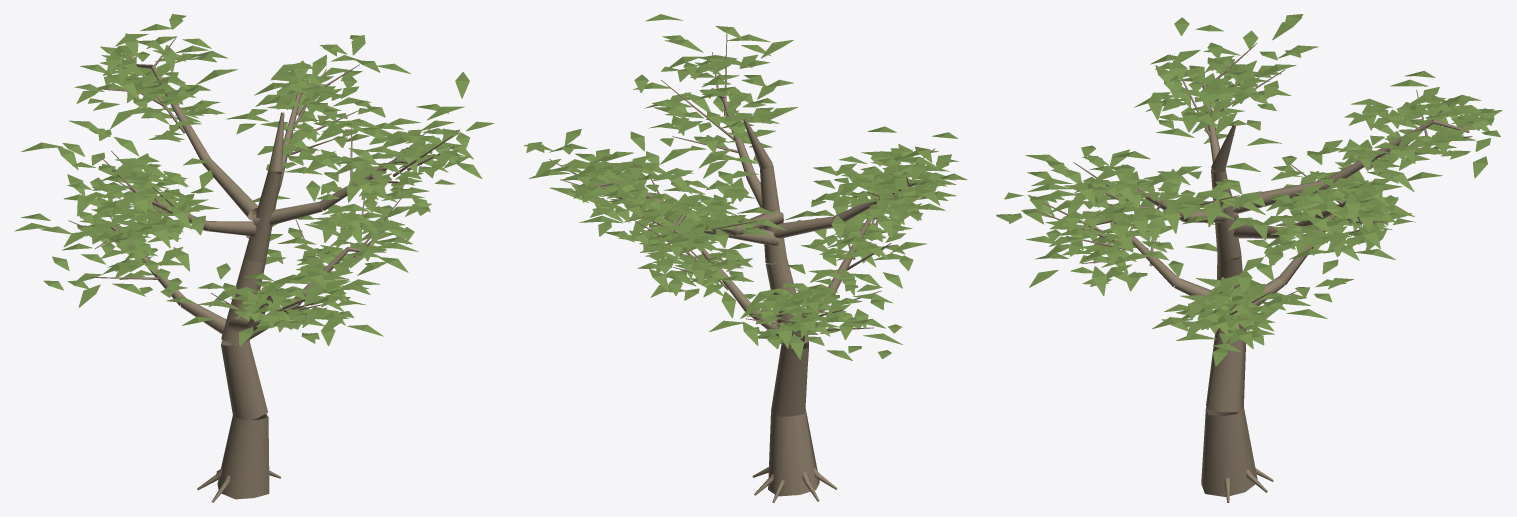
File: canopy_broad_lod1.glb
The picture shows the model from 3 angles, left to right: view 1: azimuth 30°, elevation 25°; view 2: azimuth 150°, elevation 25°; view 3: azimuth 270°, elevation 25°; orthographic projection. The views are drawn at different scales.
Visible parts, largest first — view 1: Leaves, Bark; view 2: Leaves, Bark; view 3: Leaves, Bark.
Boxes of the visible parts, box(x1,y1,x2,y2) form: Leaves: box(14, 14, 494, 346); Bark: box(68, 37, 454, 502); Leaves: box(523, 14, 967, 360); Bark: box(549, 33, 935, 502); Leaves: box(996, 14, 1502, 366); Bark: box(1031, 43, 1472, 502).
Size of the model in its own units: 10.82 by 10.27 by 11.19.
